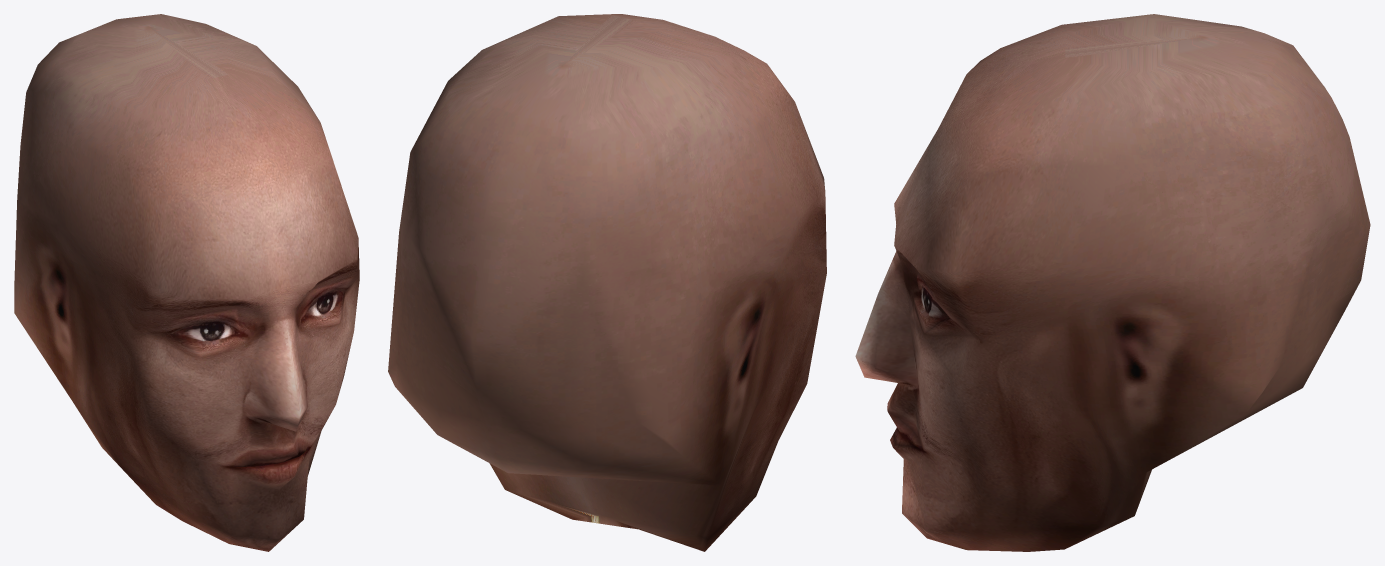
File: b_n_imperial_m_head_07.glb
3 renders of one model, left to right at view 1: azimuth 30°, elevation 25°; view 2: azimuth 150°, elevation 25°; view 3: azimuth 270°, elevation 25°, orthographic. The views are drawn at different scales.
Parts seen in each view (by area): view 1: Tri B_N_Imperial_M_Head_07; view 2: Tri B_N_Imperial_M_Head_07; view 3: Tri B_N_Imperial_M_Head_07.
Boxes of the visible parts, x1,y1,x2,y2 form: Tri B_N_Imperial_M_Head_07: (14, 14, 359, 551); Tri B_N_Imperial_M_Head_07: (388, 14, 826, 551); Tri B_N_Imperial_M_Head_07: (855, 14, 1370, 551).
Bounding box in the file's own units: 0.097 × 0.1597 × 0.1487.
1 material, 1 textured.
